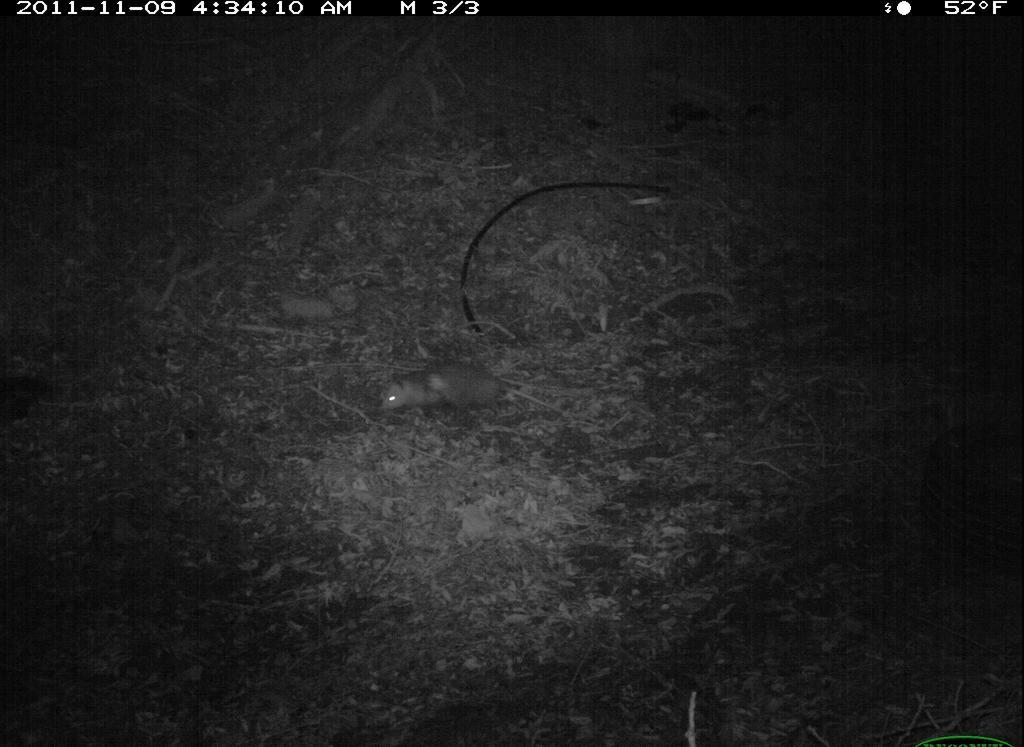opossum: (363, 346, 598, 429)
